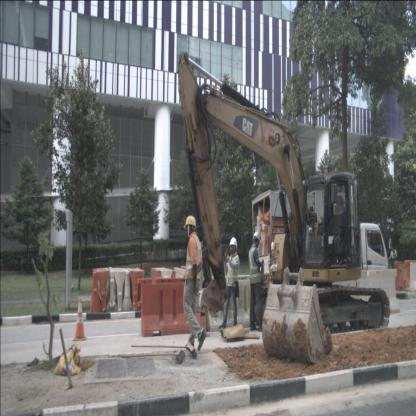human-pedestrian-adult: (386, 244, 397, 284)
movable_object-barrier: (140, 281, 201, 335), (206, 279, 253, 330), (361, 269, 400, 316), (96, 266, 109, 313), (130, 267, 143, 312), (90, 267, 101, 314), (107, 266, 118, 313), (122, 268, 133, 314), (115, 267, 125, 313)
movable_object-trafficcone: (72, 296, 89, 342)
vehicle-truck: (252, 190, 388, 314)
